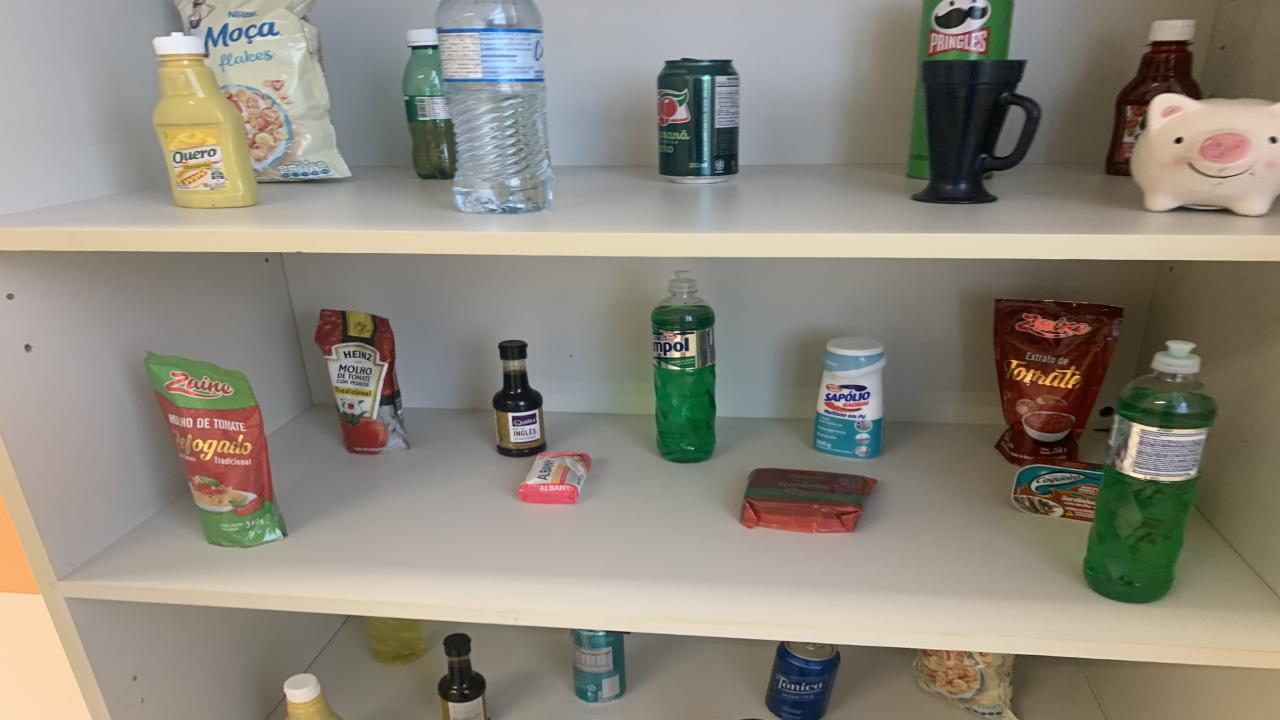Cleaner-Cleanup_Items: (815, 338, 888, 458)
Detergent-Cleanup_Items: (1085, 341, 1218, 602), (652, 272, 715, 463), (368, 617, 425, 666)
English_Sauce-Pantry_Items: (492, 339, 548, 458), (438, 634, 488, 720)
Flakes-Snacks: (175, 0, 350, 182), (915, 649, 1015, 720)
Guarana-Drinks: (402, 30, 455, 178)
Guarana_Can-Drinks: (658, 58, 740, 184)
Guava-Snacks: (740, 469, 878, 532)
Ketchup-Pantry_Items: (1105, 19, 1202, 176)
Mustard-Pantry_Items: (152, 32, 258, 208), (282, 673, 340, 720)
Pig_Safe-Miscellaneous: (1130, 94, 1280, 216)
Pringles-Snacks: (918, 0, 1012, 60), (908, 82, 930, 178)
Soap-Cleanup_Items: (518, 452, 590, 504)
Tea-Drinks: (570, 628, 625, 703)
Tomato_Sauce-Pantry_Items: (145, 352, 288, 548), (992, 298, 1122, 465), (315, 309, 410, 454)
Tonic-Drinks: (765, 641, 840, 720)
Tuna_Can-Pantry_Items: (1010, 463, 1102, 521)
Water_Bottle-Drinks: (435, 0, 552, 214)
